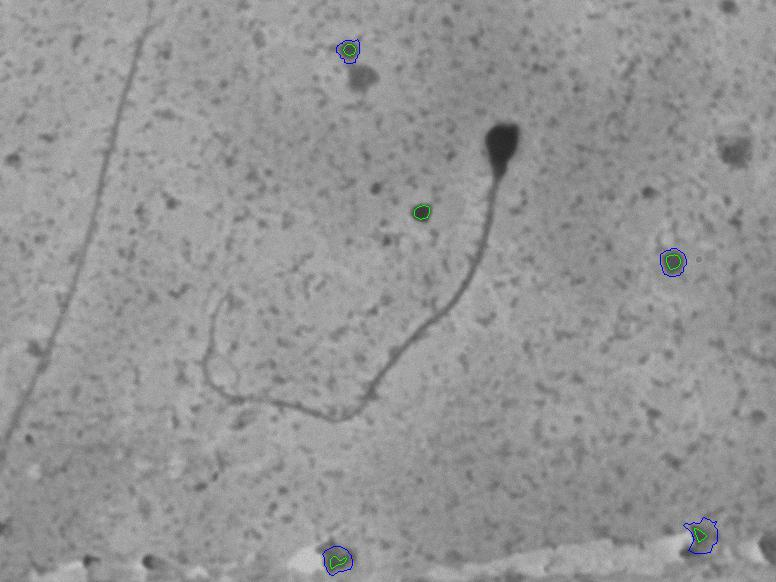Abnormal: (173, 76, 552, 470)
